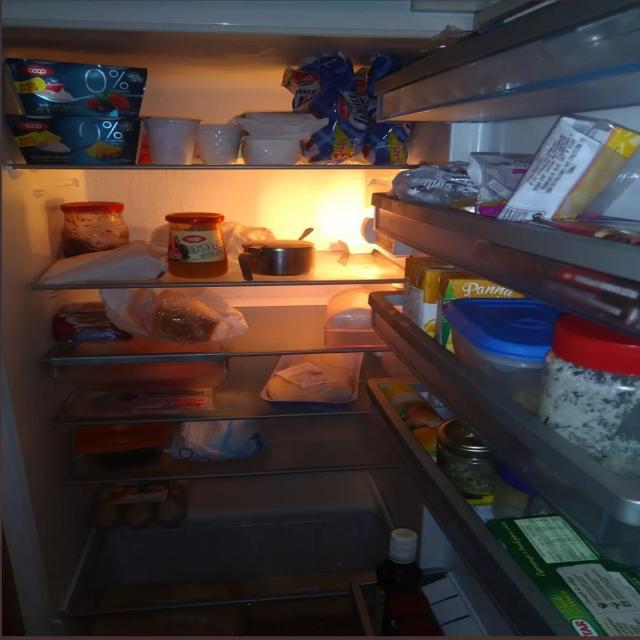cheese: (144, 288, 232, 342), (244, 133, 302, 168)
ham: (76, 390, 213, 415)
yoghurt: (0, 52, 144, 120), (8, 115, 143, 168), (138, 110, 198, 170), (200, 119, 247, 172)
